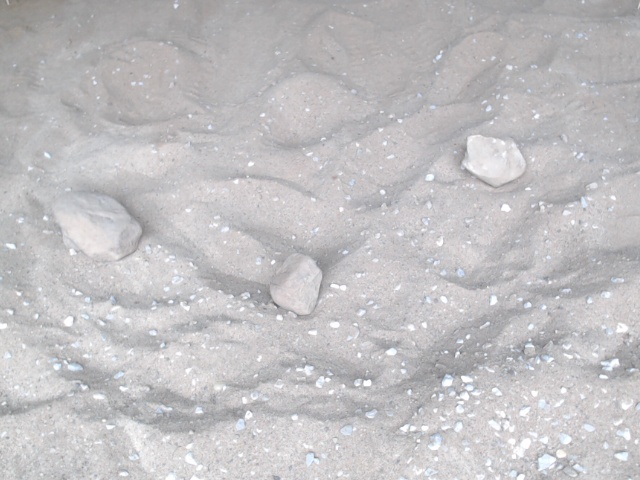rock: (48, 189, 146, 268), (266, 247, 327, 321), (458, 130, 529, 191)
